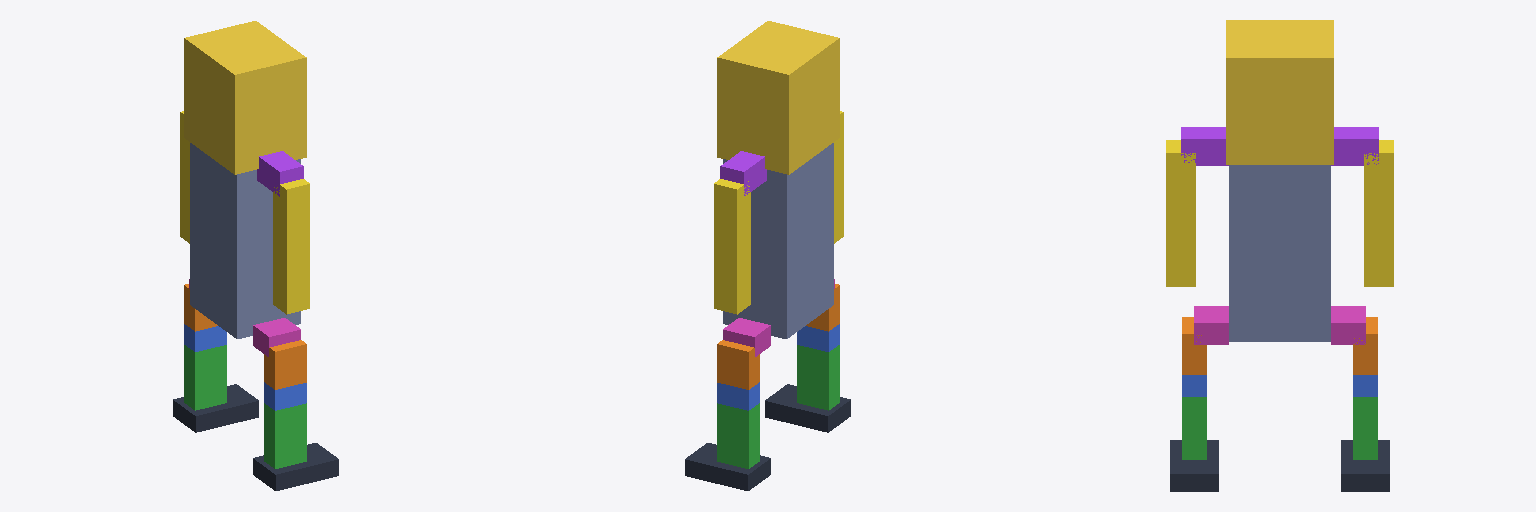
The robot description file, URDF, robot "pikachu_sample_14dof_links":
<?xml version="1.0" encoding="UTF-8"?>
<robot name="pikachu_sample_14dof_links">

  <!-- ============================================================ -->
  <!-- 【集中参数区】改这里即可整体调整 / 适配骨骼模型              -->
  <!-- ============================================================ -->

  <!-- ==== 躯干 / 肩 ==== -->
  
    <!-- 骨盆半宽：躯干中轴线 → 髋 pitch 关节的横向(y)距离，左右腿共用 -->
  
    <!-- 肩高：髋 pitch 平面 → 臂 pitch 关节的 z 抬升（也是躯干盒高度） -->
  
    <!-- 躯干盒 x(前后) 厚度 -->
  <!-- 躯干盒 y(左右) 宽度已绑定 pelvis_half_width*2：随骨盆联动，
       避免调整髋半宽时躯干不跟着加宽、两侧腿像架空一样 -->

  <!-- ==== 腿：骨盆横向/侧段（左右方向，一般不调） ==== -->
  
    <!-- hip_pitch→hip_roll 关节沿 y 偏移 -->
  
    <!-- hip_roll→hip_yaw 关节沿 -z 偏移（骨盆下沿） -->

  <!-- ==== 【腿纵向骨长】适配骨骼时重点调这两项 ==== -->
  
    <!-- 大腿：hip_yaw→knee 关节 沿 -z 偏移（也是该段 box 的长度） -->
  
    <!-- 小腿：knee→ankle 关节 沿 -z 偏移（也是该段 box 的长度） -->

  <!-- ==== 腿截面尺寸 ==== -->
  
    <!-- 腿 box 的 x(前后) 厚 -->
  
    <!-- 腿 box 的 y(内外) 厚 -->

  <!-- ==== 脚 ==== -->
  
  
  

  <!-- ==== 臂（fixed，不会动，只做占位） ==== -->
  
    <!-- 臂 pitch→roll 沿 y 偏移 -->
  
    <!-- 臂 roll 段：沿 -z 偏移 / 长度（14dof 版为末端，已去掉 yaw/elbow） -->
  
  

  <!-- ==== 头（原始 URDF 没有，适配骨骼时按需调整） ==== -->
  
    <!-- 头 x(前后) 尺寸 -->
  
    <!-- 头 y(左右) 尺寸 -->
  
    <!-- 头 z(上下) 尺寸 -->
  
    <!-- 头底部 相对躯干顶(z=shoulder_height) 的额外抬升，>=0 -->

  <!-- ==== 手臂 / 头 关节限位（把 fixed 改成 revolute 后可驱动） ==== -->
  
    <!-- 臂 pitch/roll 的关节下限（弧度） -->
  
    <!-- 臂 pitch/roll 的关节上限（弧度） -->
  
    <!-- 头关节下限（弧度） -->
  
    <!-- 头关节上限（弧度） -->

  <!-- ==== 材质（仅便于视觉区分；相邻关节用不同色，左右对称） ==== -->
  
    <!-- 躯干：淡蓝灰 -->
  
    <!-- 头：亮黄 -->
  
    <!-- 腿段A(hip_pitch)：品红 -->
  
    <!-- 腿段B(hip_roll)：橙 -->
  
    <!-- 腿段C(hip_yaw 大腿)：蓝 -->
  
    <!-- 腿段D(knee 小腿)：绿 -->
  
    <!-- 腿段E(ankle 脚)：深灰蓝 -->
  
    <!-- 臂段A(arm_pitch 肩)：紫 -->
  
    <!-- 臂段B(arm_roll 上臂，14dof 末端)：黄 -->

  <!-- ============================================================ -->
  <!-- 材质定义（每段独立颜色，左右对称共用同一套）              -->
  <!-- ============================================================ -->
  <material name="torso_blue">
    <color rgba="0.55 0.60 0.75 1"/>
  </material>
  <material name="head_yellow">
    <color rgba="0.98 0.85 0.30 1"/>
  </material>
  <material name="leg_hip_pitch">
    <color rgba="0.90 0.35 0.80 1"/>
  </material>
  <material name="leg_hip_roll">
    <color rgba="1.00 0.60 0.20 1"/>
  </material>
  <material name="leg_hip_yaw">
    <color rgba="0.35 0.55 1.00 1"/>
  </material>
  <material name="leg_knee">
    <color rgba="0.30 0.80 0.35 1"/>
  </material>
  <material name="leg_ankle">
    <color rgba="0.25 0.28 0.35 1"/>
  </material>
  <material name="arm_pitch">
    <color rgba="0.75 0.35 1.00 1"/>
  </material>
  <material name="arm_roll">
    <color rgba="1.00 0.90 0.25 1"/>
  </material>

  <!-- ============================================================ -->
  <!-- 腿部宏：生成 pitch/roll/yaw/knee/ankle 五个 link             -->
  <!--   side: left | right     sn:  1 | -1（y 方向符号）      -->
  <!-- ============================================================ -->
  

  <!-- ============================================================ -->
  <!-- 手臂宏：只生成 pitch → roll 两个 link（14dof，全部 revolute 可动） -->
  <!-- ============================================================ -->
  

  <!-- ============================================================ -->
  <!-- base_link：躯干（含 4 个与躯干相连的 base 关节）           -->
  <!-- ============================================================ -->
  <link name="base_link">
    <visual>
      <origin xyz="0 0 0.1" rpy="0 0 0"/>
      <geometry>
        <box size="0.08 0.103 0.2"/>
      </geometry>
      <material name="torso_blue"/>
    </visual>
  <inertial><origin xyz="0.000000000 0.000000000 0.100000000" rpy="0.000000000 0.000000000 0.000000000"/><mass value="2.47200"/><inertia ixx="0.010425" iyy="0.009558" izz="0.003504" ixy="0" ixz="0" iyz="0"/></inertial></link>

  <!-- 头部：base_link → head_link（固定，立在躯干顶上） -->
  <joint name="head_joint" type="revolute">
    <origin xyz="0 0 0.26" rpy="0 0 0"/>
    <parent link="base_link"/>
    <child link="head_link"/>
    <!-- 默认绕 y 轴＝点头；若想左右转头，把 axis 改成 "0 0 1" -->
    <axis xyz="0 1 0"/>
    <limit lower="-0.8" upper="0.8" effort="2.0" velocity="2"/>
  </joint>
  <link name="head_link">
    <visual>
      <origin xyz="0 0 0" rpy="0 0 0"/>
      <geometry>
        <box size="0.09 0.11 0.12"/>
      </geometry>
      <material name="head_yellow"/>
    </visual>
  <inertial><origin xyz="0.000000000 0.000000000 0.000000000" rpy="0.000000000 0.000000000 0.000000000"/><mass value="1.78200"/><inertia ixx="0.003935" iyy="0.003341" izz="0.003000" ixy="0" ixz="0" iyz="0"/></inertial></link>

  <!-- 髋 pitch：型→left_hip_pitch_link / right_hip_pitch_link -->
  <joint name="left_hip_pitch_joint" type="revolute">
    <origin xyz="0 0.0515 0" rpy="0 0 0"/>
    <parent link="base_link"/>
    <child link="left_hip_pitch_link"/>
    <axis xyz="0 -1 0"/>
    <limit lower="0" upper="2.44" effort="12.5" velocity="2"/>
  </joint>
  <joint name="right_hip_pitch_joint" type="revolute">
    <origin xyz="0 -0.0515 0" rpy="0 0 0"/>
    <parent link="base_link"/>
    <child link="right_hip_pitch_link"/>
    <axis xyz="0 -1 0"/>
    <limit lower="0" upper="2.44" effort="12.5" velocity="2"/>
  </joint>

  <!-- 臂 pitch：型→left/right_arm_pitch_link（固定，抬升 shoulder_height） -->
  <joint name="left_arm_pitch_joint" type="revolute">
    <origin xyz="0 0.0515 0.2" rpy="0 0 0"/>
    <parent link="base_link"/>
    <child link="left_arm_pitch_link"/>
    <axis xyz="0 -1 0"/>
    <limit lower="-1.57" upper="1.57" effort="2.0" velocity="2"/>
  </joint>
  <joint name="right_arm_pitch_joint" type="revolute">
    <origin xyz="0 -0.0515 0.2" rpy="0 0 0"/>
    <parent link="base_link"/>
    <child link="right_arm_pitch_link"/>
    <axis xyz="0 -1 0"/>
    <limit lower="-1.57" upper="1.57" effort="2.0" velocity="2"/>
  </joint>

  <!-- ============================================================ -->
  <!-- 组装：左腿 / 右腿 / 左臂 / 右臂                           -->
  <!-- ============================================================ -->
  
    <!-- hip_pitch_link：覆盖到 roll 的横向(y)段 -->
    <link name="left_hip_pitch_link">
      <visual>
        <origin xyz="0 0.01775 0" rpy="0 0 0"/>
        <geometry>
          <box size="0.04 0.0355 0.025"/>
        </geometry>
        <material name="leg_hip_pitch"/>
      </visual>
    <inertial><origin xyz="0.000000000 0.017750000 0.000000000" rpy="0.000000000 0.000000000 0.000000000"/><mass value="0.05325"/><inertia ixx="0.000008" iyy="0.000010" izz="0.000013" ixy="0" ixz="0" iyz="0"/></inertial></link>

    <joint name="left_hip_roll_joint" type="revolute">
      <origin xyz="0 0.0355 0" rpy="0 0 0"/>
      <parent link="left_hip_pitch_link"/>
      <child link="left_hip_roll_link"/>
      <axis xyz="1 0 0"/>
      <limit lower="-0.09" upper="0.26" effort="9.0" velocity="1"/>
    </joint>

    <!-- hip_roll_link：覆盖到 yaw 的 -z 骨盆段 -->
    <link name="left_hip_roll_link">
      <visual>
        <origin xyz="0 0 -0.023" rpy="0 0 0"/>
        <geometry>
          <box size="0.04 0.025 0.046"/>
        </geometry>
        <material name="leg_hip_roll"/>
      </visual>
    <inertial><origin xyz="0.000000000 0.000000000 -0.023000000" rpy="0.000000000 0.000000000 0.000000000"/><mass value="0.06900"/><inertia ixx="0.000016" iyy="0.000021" izz="0.000013" ixy="0" ixz="0" iyz="0"/></inertial></link>

    <joint name="left_hip_yaw_joint" type="revolute">
      <origin xyz="0 0 -0.046" rpy="0 0 0"/>
      <parent link="left_hip_roll_link"/>
      <child link="left_hip_yaw_link"/>
      <axis xyz="0 0 1"/>
      <limit lower="-0.09" upper="0.26" effort="9.0" velocity="1"/>
    </joint>

    <!-- hip_yaw_link：大腿段（thigh_length） -->
    <link name="left_hip_yaw_link">
      <visual>
        <origin xyz="0 0 -0.0125" rpy="0 0 0"/>
        <geometry>
          <box size="0.04 0.025 0.025"/>
        </geometry>
        <material name="leg_hip_yaw"/>
      </visual>
    <inertial><origin xyz="0.000000000 0.000000000 -0.012500000" rpy="0.000000000 0.000000000 0.000000000"/><mass value="0.03750"/><inertia ixx="0.000004" iyy="0.000007" izz="0.000007" ixy="0" ixz="0" iyz="0"/></inertial></link>

    <joint name="left_knee_joint" type="revolute">
      <origin xyz="0 0 -0.025" rpy="0 0 0"/>
      <parent link="left_hip_yaw_link"/>
      <child link="left_knee_link"/>
      <axis xyz="0 1 0"/>
      <limit lower="0" upper="1.57" effort="12.5" velocity="3"/>
    </joint>

    <!-- knee_link：小腿段（shank_length） -->
    <link name="left_knee_link">
      <visual>
        <origin xyz="0 0 -0.035" rpy="0 0 0"/>
        <geometry>
          <box size="0.04 0.025 0.070"/>
        </geometry>
        <material name="leg_knee"/>
      </visual>
    <inertial><origin xyz="0.000000000 0.000000000 -0.035000000" rpy="0.000000000 0.000000000 0.000000000"/><mass value="0.10500"/><inertia ixx="0.000048" iyy="0.000057" izz="0.000019" ixy="0" ixz="0" iyz="0"/></inertial></link>

    <joint name="left_ankle_joint" type="revolute">
      <origin xyz="0 0 -0.07" rpy="0 0 0"/>
      <parent link="left_knee_link"/>
      <child link="left_ankle_link"/>
      <axis xyz="0 -1 0"/>
      <limit lower="-0.52" upper="1.05" effort="9.0" velocity="2"/>
    </joint>

    <!-- ankle_link：脚掌（末端） -->
    <link name="left_ankle_link">
      <visual>
        <origin xyz="0.013333333333333334 0 -0.01" rpy="0 0 0"/>
        <geometry>
          <box size="0.08 0.05 0.02"/>
        </geometry>
        <material name="leg_ankle"/>
      </visual>
    <inertial><origin xyz="0.013333333 0.000000000 -0.010000000" rpy="0.000000000 0.000000000 0.000000000"/><mass value="0.12000"/><inertia ixx="0.000029" iyy="0.000068" izz="0.000089" ixy="0" ixz="0" iyz="0"/></inertial></link>
  
  
    <!-- hip_pitch_link：覆盖到 roll 的横向(y)段 -->
    <link name="right_hip_pitch_link">
      <visual>
        <origin xyz="0 -0.01775 0" rpy="0 0 0"/>
        <geometry>
          <box size="0.04 0.0355 0.025"/>
        </geometry>
        <material name="leg_hip_pitch"/>
      </visual>
    <inertial><origin xyz="0.000000000 -0.017750000 0.000000000" rpy="0.000000000 0.000000000 0.000000000"/><mass value="0.05325"/><inertia ixx="0.000008" iyy="0.000010" izz="0.000013" ixy="0" ixz="0" iyz="0"/></inertial></link>

    <joint name="right_hip_roll_joint" type="revolute">
      <origin xyz="0 -0.0355 0" rpy="0 0 0"/>
      <parent link="right_hip_pitch_link"/>
      <child link="right_hip_roll_link"/>
      <axis xyz="-1 0 0"/>
      <limit lower="-0.09" upper="0.26" effort="9.0" velocity="1"/>
    </joint>

    <!-- hip_roll_link：覆盖到 yaw 的 -z 骨盆段 -->
    <link name="right_hip_roll_link">
      <visual>
        <origin xyz="0 0 -0.023" rpy="0 0 0"/>
        <geometry>
          <box size="0.04 0.025 0.046"/>
        </geometry>
        <material name="leg_hip_roll"/>
      </visual>
    <inertial><origin xyz="0.000000000 0.000000000 -0.023000000" rpy="0.000000000 0.000000000 0.000000000"/><mass value="0.06900"/><inertia ixx="0.000016" iyy="0.000021" izz="0.000013" ixy="0" ixz="0" iyz="0"/></inertial></link>

    <joint name="right_hip_yaw_joint" type="revolute">
      <origin xyz="0 0 -0.046" rpy="0 0 0"/>
      <parent link="right_hip_roll_link"/>
      <child link="right_hip_yaw_link"/>
      <axis xyz="0 0 -1"/>
      <limit lower="-0.09" upper="0.26" effort="9.0" velocity="1"/>
    </joint>

    <!-- hip_yaw_link：大腿段（thigh_length） -->
    <link name="right_hip_yaw_link">
      <visual>
        <origin xyz="0 0 -0.0125" rpy="0 0 0"/>
        <geometry>
          <box size="0.04 0.025 0.025"/>
        </geometry>
        <material name="leg_hip_yaw"/>
      </visual>
    <inertial><origin xyz="0.000000000 0.000000000 -0.012500000" rpy="0.000000000 0.000000000 0.000000000"/><mass value="0.03750"/><inertia ixx="0.000004" iyy="0.000007" izz="0.000007" ixy="0" ixz="0" iyz="0"/></inertial></link>

    <joint name="right_knee_joint" type="revolute">
      <origin xyz="0 0 -0.025" rpy="0 0 0"/>
      <parent link="right_hip_yaw_link"/>
      <child link="right_knee_link"/>
      <axis xyz="0 1 0"/>
      <limit lower="0" upper="1.57" effort="12.5" velocity="3"/>
    </joint>

    <!-- knee_link：小腿段（shank_length） -->
    <link name="right_knee_link">
      <visual>
        <origin xyz="0 0 -0.035" rpy="0 0 0"/>
        <geometry>
          <box size="0.04 0.025 0.070"/>
        </geometry>
        <material name="leg_knee"/>
      </visual>
    <inertial><origin xyz="0.000000000 0.000000000 -0.035000000" rpy="0.000000000 0.000000000 0.000000000"/><mass value="0.10500"/><inertia ixx="0.000048" iyy="0.000057" izz="0.000019" ixy="0" ixz="0" iyz="0"/></inertial></link>

    <joint name="right_ankle_joint" type="revolute">
      <origin xyz="0 0 -0.07" rpy="0 0 0"/>
      <parent link="right_knee_link"/>
      <child link="right_ankle_link"/>
      <axis xyz="0 -1 0"/>
      <limit lower="-0.52" upper="1.05" effort="9.0" velocity="2"/>
    </joint>

    <!-- ankle_link：脚掌（末端） -->
    <link name="right_ankle_link">
      <visual>
        <origin xyz="0.013333333333333334 0 -0.01" rpy="0 0 0"/>
        <geometry>
          <box size="0.08 0.05 0.02"/>
        </geometry>
        <material name="leg_ankle"/>
      </visual>
    <inertial><origin xyz="0.013333333 0.000000000 -0.010000000" rpy="0.000000000 0.000000000 0.000000000"/><mass value="0.12000"/><inertia ixx="0.000029" iyy="0.000068" izz="0.000089" ixy="0" ixz="0" iyz="0"/></inertial></link>
  

  
    <!-- arm_pitch_link：覆盖到 roll 的横向(y)段 -->
    <link name="left_arm_pitch_link">
      <visual>
        <origin xyz="0 0.0245 0" rpy="0 0 0"/>
        <geometry>
          <box size="0.03 0.049 0.03"/>
        </geometry>
        <material name="arm_pitch"/>
      </visual>
    <inertial><origin xyz="0.000000000 0.024500000 0.000000000" rpy="0.000000000 0.000000000 0.000000000"/><mass value="0.06615"/><inertia ixx="0.000018" iyy="0.000010" izz="0.000018" ixy="0" ixz="0" iyz="0"/></inertial></link>

    <joint name="left_arm_roll_joint" type="revolute">
      <origin xyz="0 0.049 0" rpy="0 0 0"/>
      <parent link="left_arm_pitch_link"/>
      <child link="left_arm_roll_link"/>
      <axis xyz="1 0 0"/>
      <limit lower="-1.57" upper="1.57" effort="2.0" velocity="2"/>
    </joint>

    <!-- arm_roll_link：下臂/末端段（arm_upper_z）——14dof 版已去掉 yaw/elbow -->
    <link name="left_arm_roll_link">
      <visual>
        <origin xyz="0 0 -0.075" rpy="0 0 0"/>
        <geometry>
          <box size="0.03 0.03 0.15"/>
        </geometry>
        <material name="arm_roll"/>
      </visual>
    <inertial><origin xyz="0.000000000 0.000000000 -0.075000000" rpy="0.000000000 0.000000000 0.000000000"/><mass value="0.20250"/><inertia ixx="0.000395" iyy="0.000395" izz="0.000030" ixy="0" ixz="0" iyz="0"/></inertial></link>
  
  
    <!-- arm_pitch_link：覆盖到 roll 的横向(y)段 -->
    <link name="right_arm_pitch_link">
      <visual>
        <origin xyz="0 -0.0245 0" rpy="0 0 0"/>
        <geometry>
          <box size="0.03 0.049 0.03"/>
        </geometry>
        <material name="arm_pitch"/>
      </visual>
    <inertial><origin xyz="0.000000000 -0.024500000 0.000000000" rpy="0.000000000 0.000000000 0.000000000"/><mass value="0.06615"/><inertia ixx="0.000018" iyy="0.000010" izz="0.000018" ixy="0" ixz="0" iyz="0"/></inertial></link>

    <joint name="right_arm_roll_joint" type="revolute">
      <origin xyz="0 -0.049 0" rpy="0 0 0"/>
      <parent link="right_arm_pitch_link"/>
      <child link="right_arm_roll_link"/>
      <axis xyz="-1 0 0"/>
      <limit lower="-1.57" upper="1.57" effort="2.0" velocity="2"/>
    </joint>

    <!-- arm_roll_link：下臂/末端段（arm_upper_z）——14dof 版已去掉 yaw/elbow -->
    <link name="right_arm_roll_link">
      <visual>
        <origin xyz="0 0 -0.075" rpy="0 0 0"/>
        <geometry>
          <box size="0.03 0.03 0.15"/>
        </geometry>
        <material name="arm_roll"/>
      </visual>
    <inertial><origin xyz="0.000000000 0.000000000 -0.075000000" rpy="0.000000000 0.000000000 0.000000000"/><mass value="0.20250"/><inertia ixx="0.000395" iyy="0.000395" izz="0.000030" ixy="0" ixz="0" iyz="0"/></inertial></link>
  

</robot>

--- Render facts (derived) ---
3 views of the same robot in one strip: view 1: azimuth 30°, elevation 25°; view 2: azimuth 150°, elevation 25°; view 3: azimuth 270°, elevation 25° (orthographic).
Robot: pikachu_sample_14dof_links — 16 links, 15 joints (15 revolute); root link base_link; default pose: every joint at zero.
Visible links, largest first — view 1: head_link, base_link, right_arm_roll_link, left_knee_link, right_knee_link, left_ankle_link, right_ankle_link, right_hip_roll_link, right_arm_pitch_link, right_hip_pitch_link, left_arm_roll_link, right_hip_yaw_link (+2 smaller); view 2: head_link, base_link, left_arm_roll_link, right_knee_link, left_knee_link, right_ankle_link, left_ankle_link, left_hip_roll_link, left_arm_pitch_link, left_hip_pitch_link, right_arm_roll_link, left_hip_yaw_link (+2 smaller); view 3: base_link, head_link, right_arm_roll_link, left_arm_roll_link, left_ankle_link, right_ankle_link, left_arm_pitch_link, right_arm_pitch_link, left_knee_link, right_knee_link, right_hip_pitch_link, left_hip_pitch_link (+4 smaller).
Link boxes in pixels (bbox=[...]): head_link: bbox=[184, 21, 306, 174]; base_link: bbox=[190, 143, 300, 338]; right_arm_roll_link: bbox=[273, 179, 309, 314]; left_knee_link: bbox=[184, 345, 226, 410]; right_knee_link: bbox=[264, 403, 306, 468]; left_ankle_link: bbox=[173, 384, 258, 432]; right_ankle_link: bbox=[253, 443, 338, 490]; right_hip_roll_link: bbox=[264, 340, 306, 389]; right_arm_pitch_link: bbox=[257, 151, 303, 196]; right_hip_pitch_link: bbox=[253, 318, 300, 356]; left_arm_roll_link: bbox=[180, 111, 189, 243]; right_hip_yaw_link: bbox=[264, 382, 306, 410]; head_link: bbox=[717, 21, 839, 174]; base_link: bbox=[723, 143, 833, 338]; left_arm_roll_link: bbox=[714, 179, 750, 314]; right_knee_link: bbox=[797, 345, 839, 410]; left_knee_link: bbox=[717, 403, 759, 468]; right_ankle_link: bbox=[765, 384, 850, 432]; left_ankle_link: bbox=[685, 443, 770, 490]; left_hip_roll_link: bbox=[717, 340, 759, 389]; left_arm_pitch_link: bbox=[720, 151, 766, 195]; left_hip_pitch_link: bbox=[723, 318, 770, 356]; right_arm_roll_link: bbox=[834, 111, 843, 243]; left_hip_yaw_link: bbox=[717, 382, 759, 410]; base_link: bbox=[1229, 165, 1330, 341]; head_link: bbox=[1226, 20, 1333, 164]; right_arm_roll_link: bbox=[1166, 140, 1195, 286]; left_arm_roll_link: bbox=[1364, 140, 1393, 286]; left_ankle_link: bbox=[1341, 440, 1389, 491]; right_ankle_link: bbox=[1170, 440, 1218, 491]; left_arm_pitch_link: bbox=[1331, 127, 1378, 165]; right_arm_pitch_link: bbox=[1181, 127, 1228, 165]; left_knee_link: bbox=[1353, 397, 1377, 459]; right_knee_link: bbox=[1182, 397, 1206, 459]; right_hip_pitch_link: bbox=[1194, 306, 1228, 344]; left_hip_pitch_link: bbox=[1331, 306, 1365, 344].
Bounding box of the posed robot: 0.0983 × 0.231 × 0.481 m (x, y, z).
Geometry: primitives only (box / cylinder / sphere), no mesh files.
